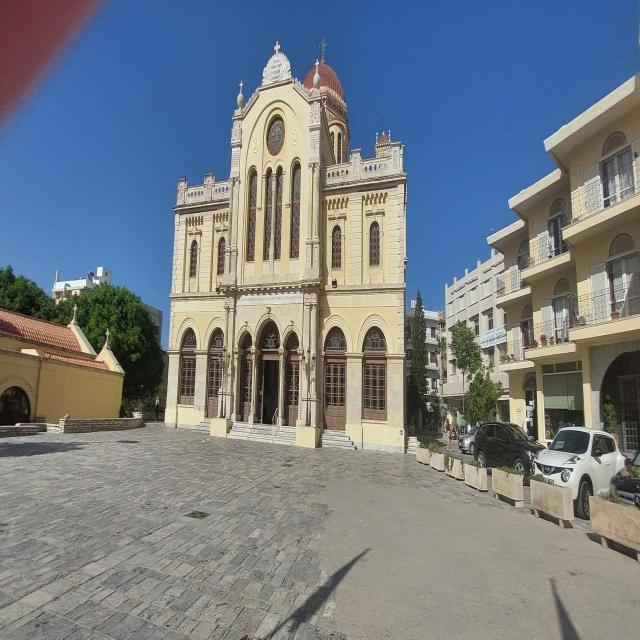Agios Minas: (166, 26, 408, 456)
